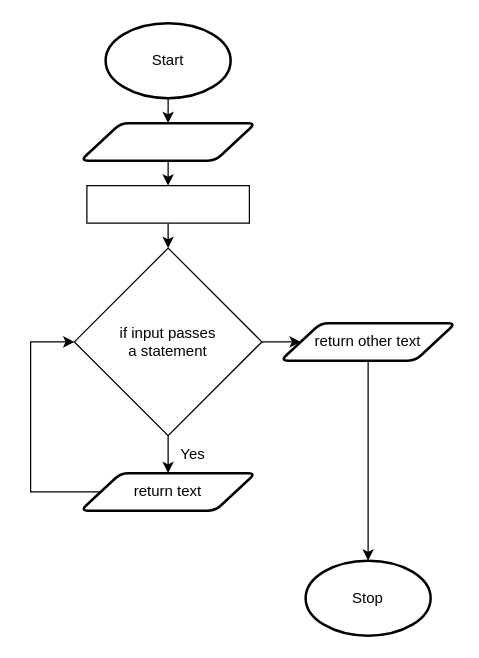
Image size: 479x658. Some labels were removed from this diagram. The centre of each missing label's shape, as x and y in pixels:
get input: the point at 167,141
process: the point at 167,203
